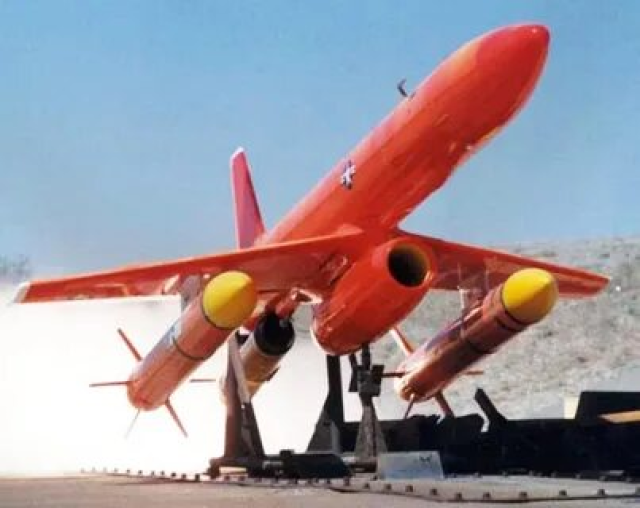military drone: (11, 20, 612, 439)
